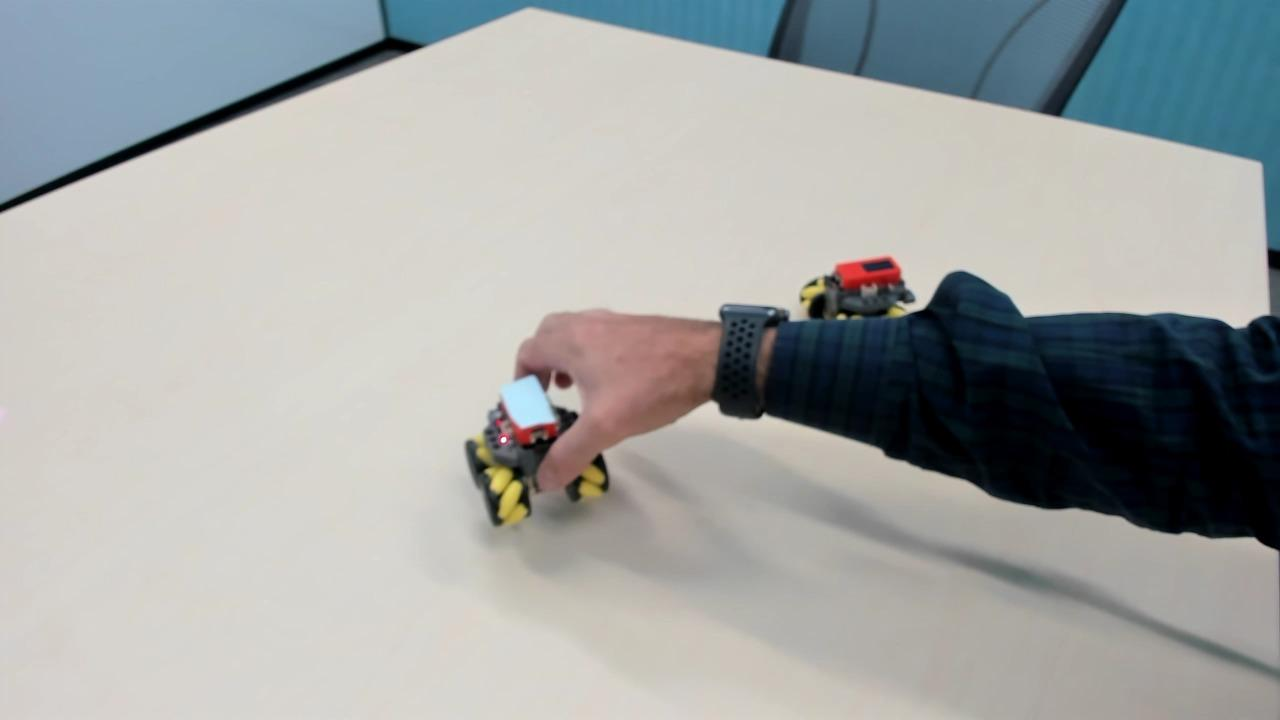B-Robot: (459, 371, 635, 546)
R-Robot: (796, 254, 919, 330)
